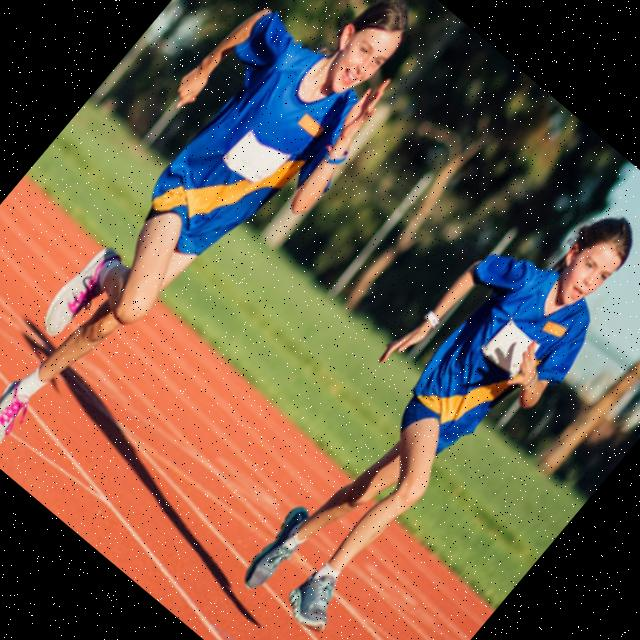Person: (0, 0, 451, 506), (208, 155, 640, 640)
